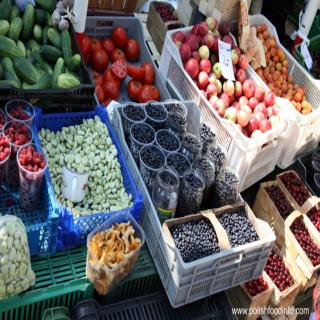tomato: (111, 57, 126, 80), (126, 63, 144, 81), (114, 28, 128, 51), (104, 67, 120, 87), (129, 78, 143, 100), (125, 38, 138, 61), (141, 62, 154, 84), (93, 48, 107, 68), (80, 33, 91, 57), (104, 82, 118, 100), (138, 84, 152, 102), (90, 68, 104, 85), (150, 83, 160, 101), (90, 37, 101, 52), (96, 83, 104, 102), (102, 99, 110, 107)
